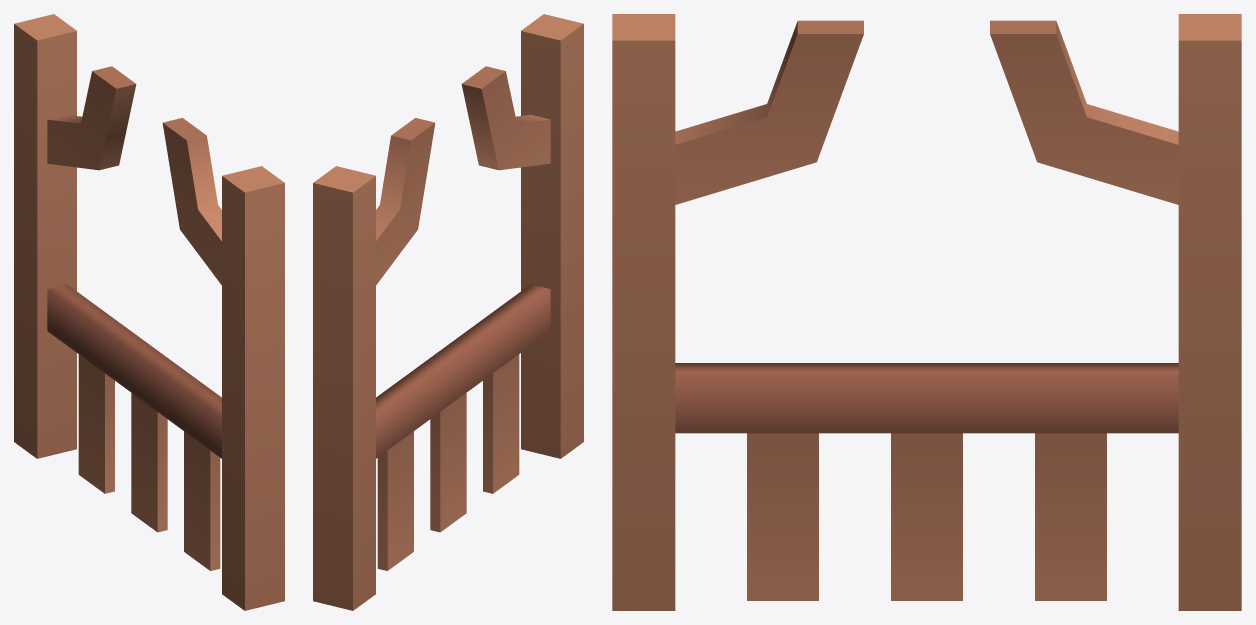
The model's file is balcony-wall-fence.glb.
3 renders of one model, left to right at view 1: azimuth 30°, elevation 25°; view 2: azimuth 150°, elevation 25°; view 3: azimuth 270°, elevation 25°, orthographic. The views are drawn at different scales.
Visible parts, largest first — view 1: balcony-wall-fence; view 2: balcony-wall-fence; view 3: balcony-wall-fence.
Boxes of the visible parts, x1=… form: balcony-wall-fence: x1=14, y1=14, x2=284, y2=610; balcony-wall-fence: x1=313, y1=14, x2=583, y2=610; balcony-wall-fence: x1=612, y1=14, x2=1241, y2=610.
Bounding box in the file's own units: 0.1 × 1 × 1.
Materials: 1 (1 with a texture image).
